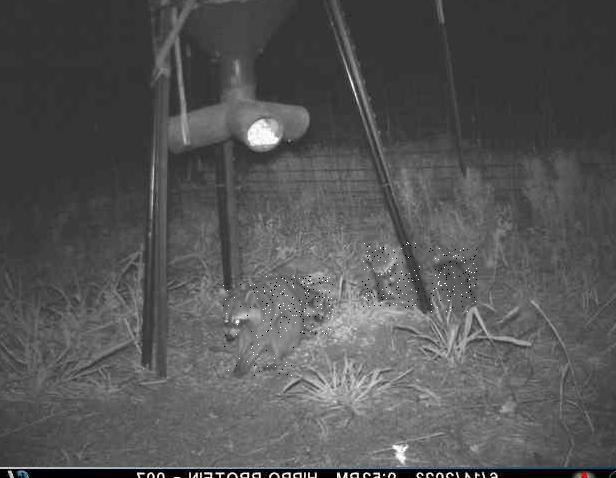Raccoon: (223, 281, 300, 379), (261, 277, 332, 335), (362, 243, 420, 309), (428, 248, 476, 312)
